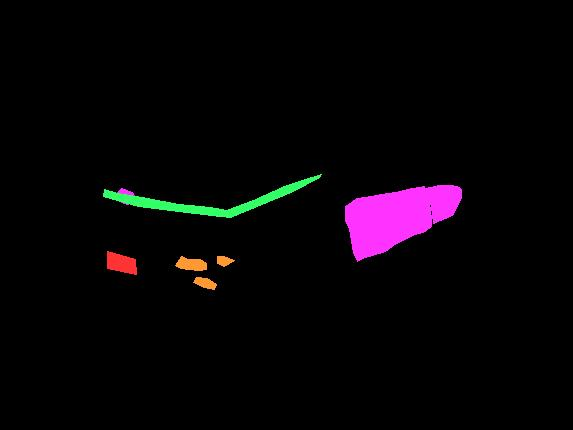Broken part: (103, 174, 321, 217)
Dent: (345, 186, 431, 261), (425, 185, 461, 223), (114, 188, 137, 204)
Missing part: (107, 251, 136, 274)
Paint chip: (175, 256, 206, 270), (193, 277, 216, 289), (217, 256, 234, 266)
